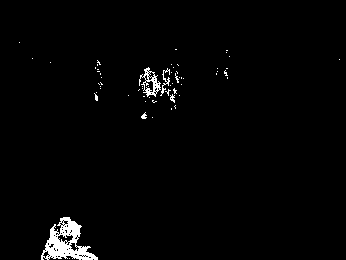person: (137, 65, 160, 119), (160, 64, 184, 112)
